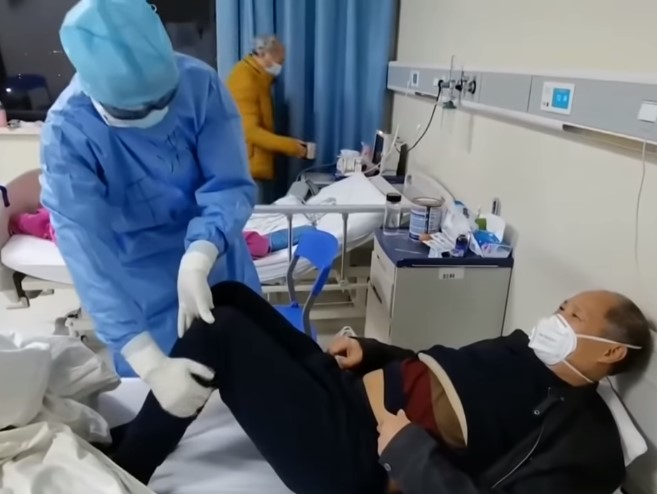face_with_mask: (58, 6, 186, 132), (524, 287, 652, 384), (251, 36, 286, 76)
